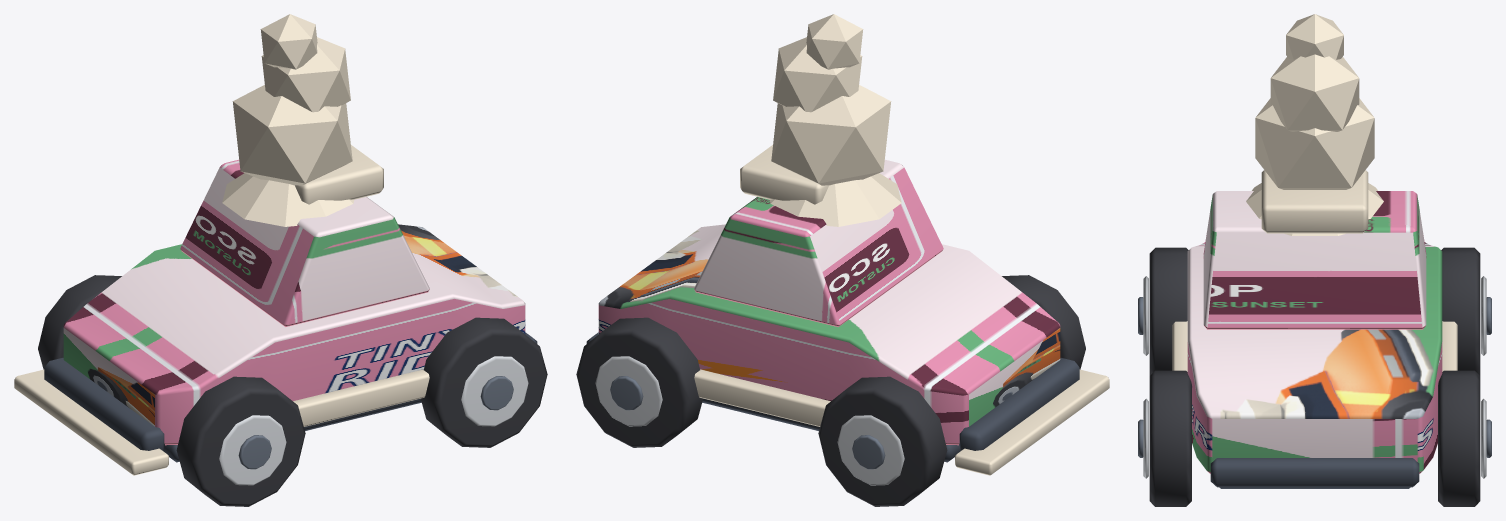
3 views of the same model, side by side, from view 1: azimuth 30°, elevation 25°; view 2: azimuth 150°, elevation 25°; view 3: azimuth 270°, elevation 25° (orthographic). The views are drawn at different scales.
Parts seen in each view (by area): view 1: SS-01_connected_shell, SS-01_cabin, Tire, Tire.002, ice cream swirl 1, custom chin, ice cream swirl 2, ice cream base, front bumper, custom side guard, Rim, Rim.002 (+6 smaller); view 2: SS-01_connected_shell, SS-01_cabin, Tire.001, Tire.003, ice cream swirl 1, custom chin, ice cream swirl 2, ice cream base, front bumper, custom side guard.001, Rim.001, Rim.003 (+6 smaller); view 3: SS-01_connected_shell, SS-01_cabin, ice cream swirl 1, rear bumper, ice cream swirl 2, Tire.002, Tire.003, custom equipment, Tire, Tire.001, ice cream swirl 3, ice cream base (+6 smaller).
Boxes of the visible parts, x1,y1,x2,y2 form: SS-01_connected_shell: (63,224,525,445); SS-01_cabin: (180,159,429,326); Tire: (176,376,305,506); Tire.002: (421,317,547,447); ice cream swirl 1: (232,85,352,185); custom chin: (14,369,168,475); ice cream swirl 2: (261,37,350,112); ice cream base: (222,173,354,226); front bumper: (44,358,164,450); custom side guard: (293,369,429,426); Rim: (219,415,286,485); Rim.002: (461,356,528,426); SS-01_connected_shell: (598,224,1060,445); SS-01_cabin: (694,159,943,326); Tire.001: (818,376,947,506); Tire.003: (576,317,702,447); ice cream swirl 1: (771,85,891,185); custom chin: (955,369,1109,475); ice cream swirl 2: (773,37,862,112); ice cream base: (769,173,901,226); front bumper: (959,358,1079,450); custom side guard.001: (694,369,830,426); Rim.001: (837,415,904,485); Rim.003: (595,356,662,426); SS-01_connected_shell: (1187,242,1442,473); SS-01_cabin: (1203,191,1426,329); ice cream swirl 1: (1255,98,1374,189); rear bumper: (1210,458,1419,487); ice cream swirl 2: (1270,54,1359,131); Tire.002: (1149,370,1191,506); Tire.003: (1438,370,1480,506); custom equipment: (1261,170,1368,233); Tire: (1149,247,1188,375); Tire.001: (1441,247,1480,375); ice cream swirl 3: (1286,14,1343,59); ice cream base: (1246,183,1383,235).
Bounding box in the file's own units: 307 × 287 × 217.
